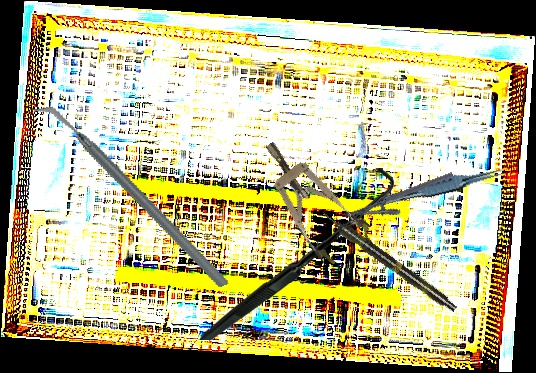Chopper: (32, 64, 230, 328)
Handpiece: (318, 207, 460, 315)
Hook Surgical: (197, 165, 395, 344)
Needle Holder: (343, 171, 460, 233)
Speculum: (246, 125, 376, 271)
Tissue Forceps: (372, 160, 507, 215)
